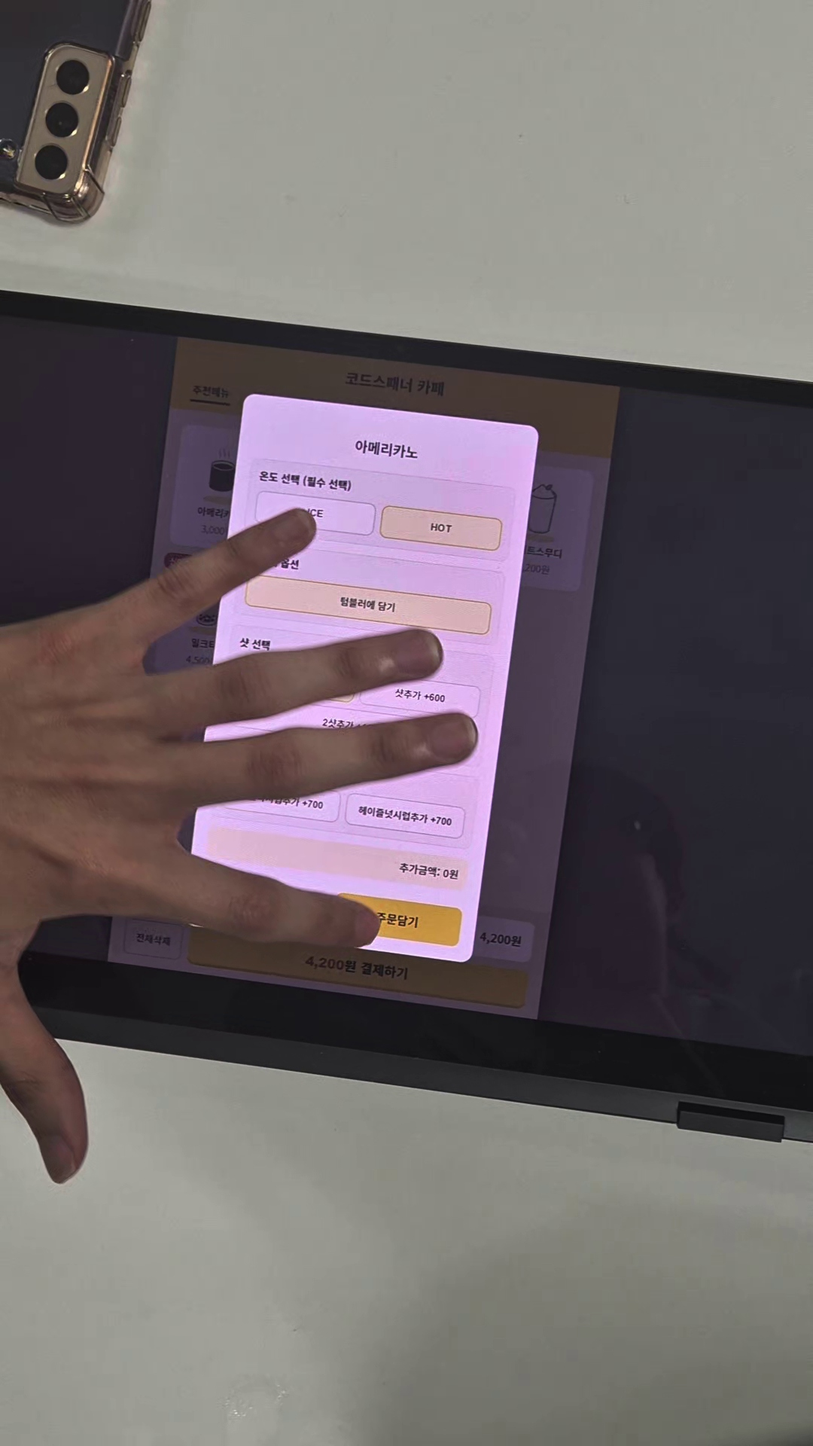option_button: (245, 574, 491, 634), (333, 892, 462, 946), (380, 506, 502, 551), (255, 491, 376, 536), (345, 794, 466, 839), (360, 675, 481, 719)
popup_modal: (184, 394, 539, 964)
